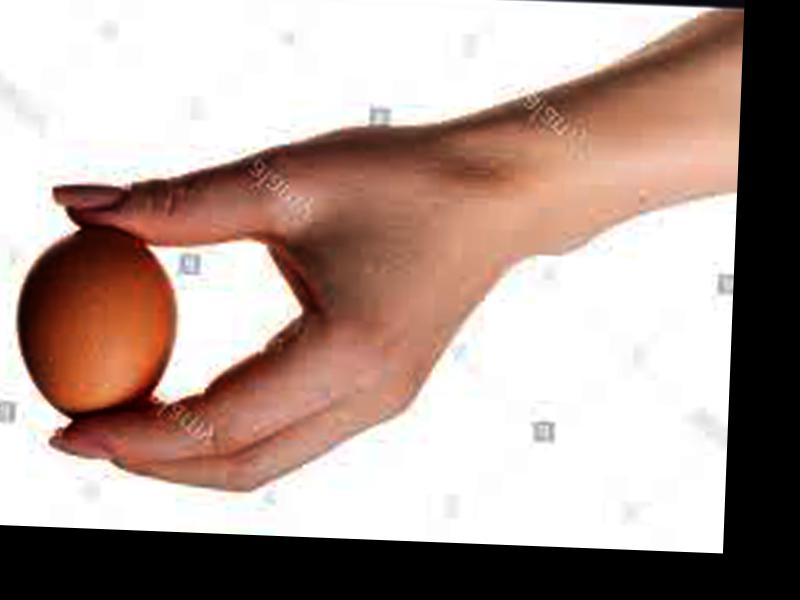Eggs: (16, 228, 183, 422)
